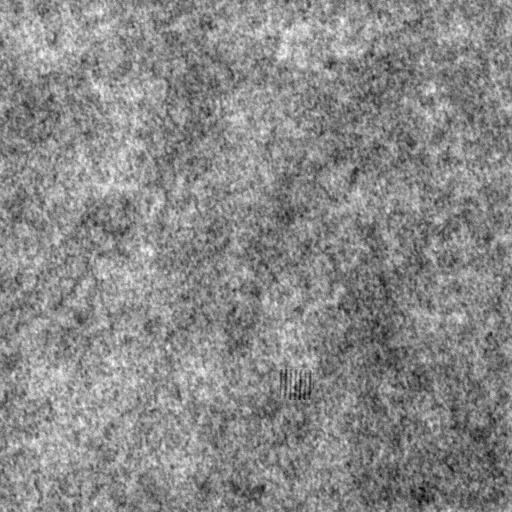DefectTypeB: (276, 367, 314, 400)
